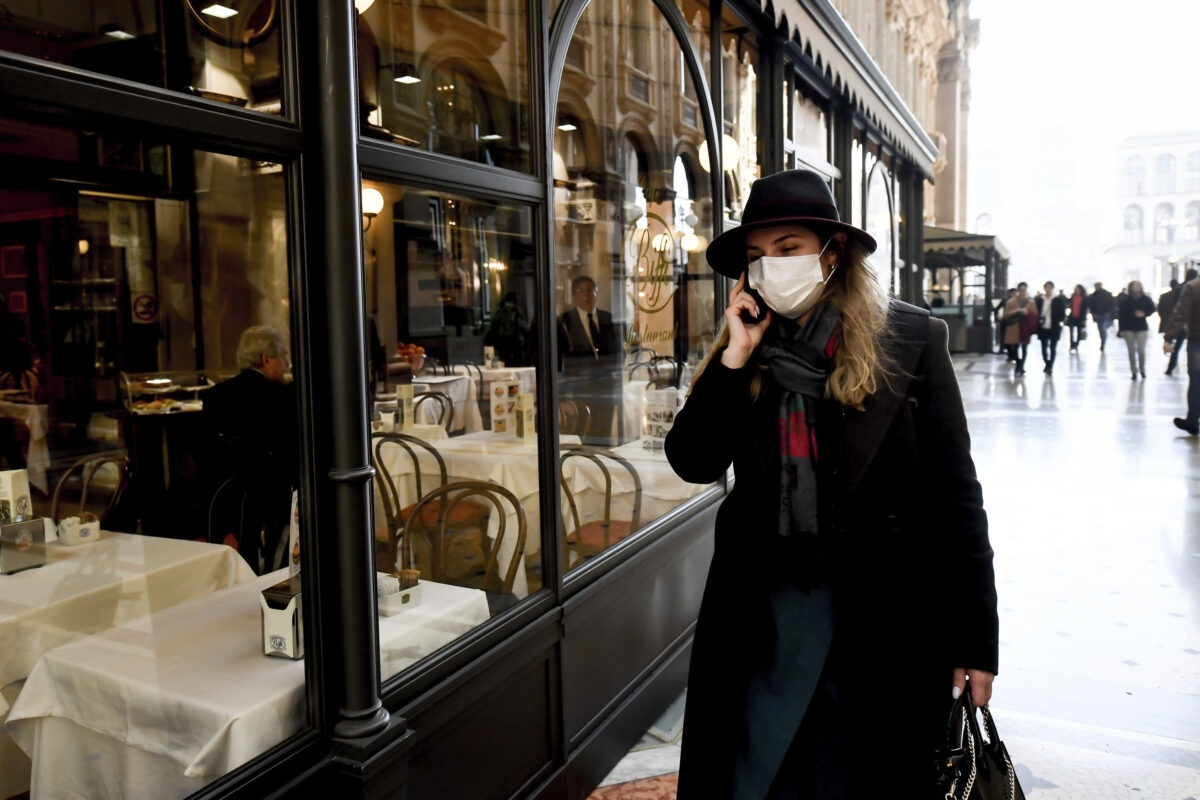mask: (746, 258, 825, 314)
